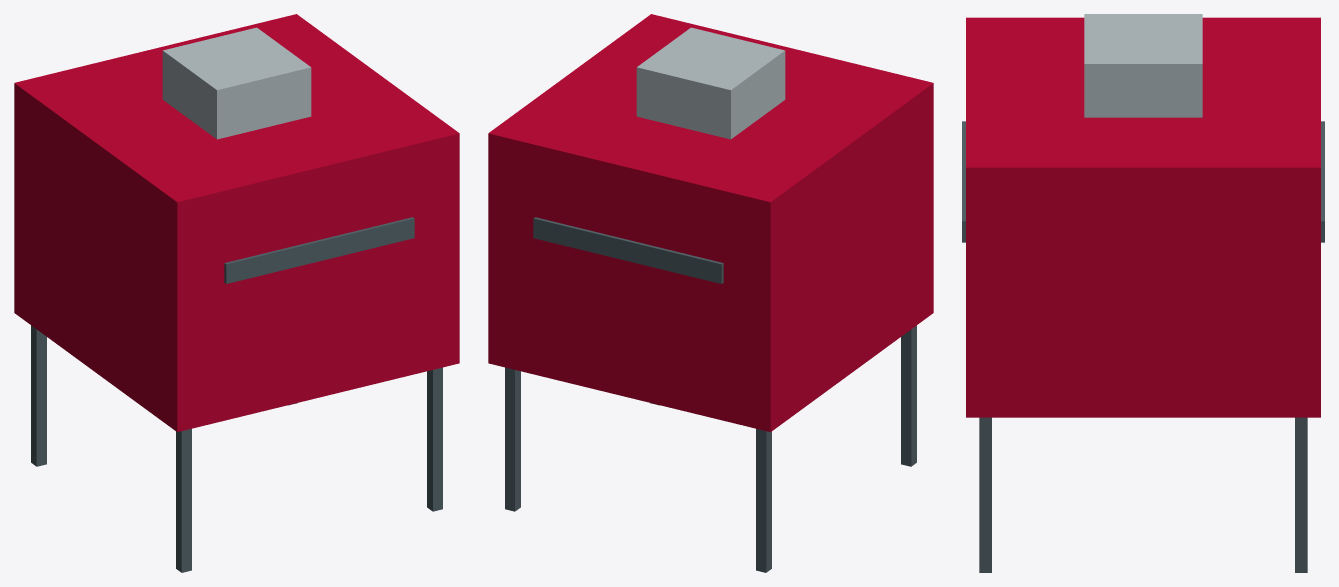
File: cleaner.glb
3 renders of one model, left to right at view 1: azimuth 30°, elevation 25°; view 2: azimuth 150°, elevation 25°; view 3: azimuth 270°, elevation 25°, orthographic. The views are drawn at different scales.
Parts seen in each view (by area): view 1: cleaner; view 2: cleaner; view 3: cleaner.
Part boxes in pixels (bbox=[...]): cleaner: bbox=[14, 14, 459, 572]; cleaner: bbox=[488, 14, 933, 572]; cleaner: bbox=[962, 14, 1324, 572].
Bounding box in the file's own units: 4.5 × 6.5 × 4.6.
